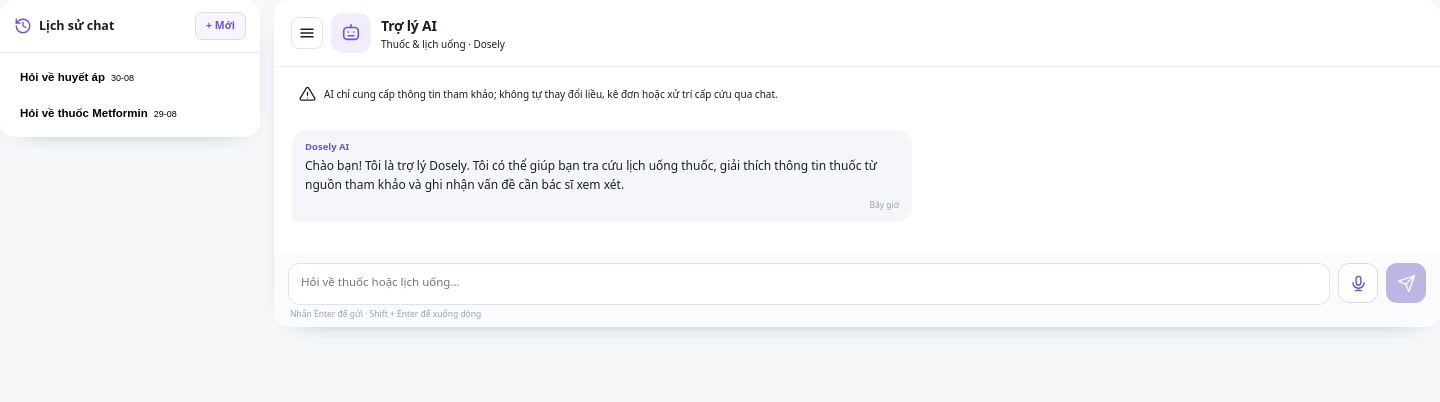
Test: ChatView › loads conversation detail when a conversation is clicked
Click the text "Hỏi về huyết áp".
click(62, 77)  # box [20, 71, 105, 83]
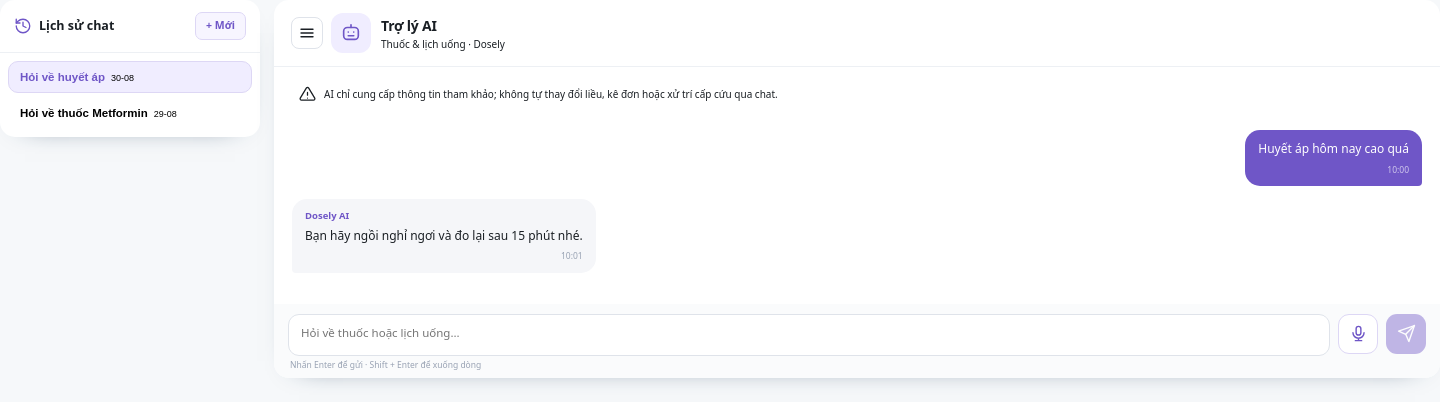
Expected: the text "Huyết áp hôm nay cao quá" is shown, [1258, 140, 1409, 159]
Expected: the text "Bạn hãy ngồi nghỉ ngơi và đo lại sau 15 phút nhé." is shown, [305, 227, 583, 245]
